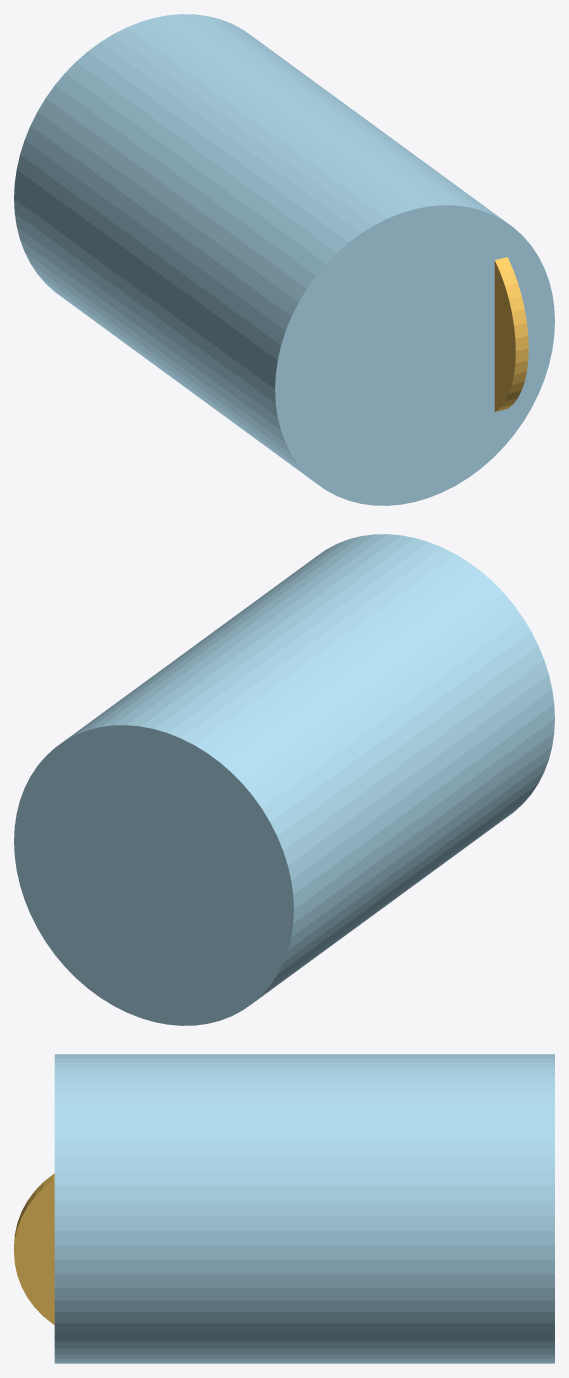
File: smoked-citrus-fizz.glb
The picture shows the model from 3 angles, top to bottom: view 1: azimuth 30°, elevation 25°; view 2: azimuth 150°, elevation 25°; view 3: azimuth 270°, elevation 25°; orthographic projection. The views are drawn at different scales.
Visible parts, largest first — view 1: Glass, CitrusWheel; view 2: Glass; view 3: Glass, CitrusWheel.
Part boxes in pixels (box(x1,y1,x2,y2)): Glass: box(14, 14, 554, 505); CitrusWheel: box(494, 257, 528, 411); Glass: box(14, 534, 554, 1025); Glass: box(54, 1054, 554, 1363); CitrusWheel: box(14, 1173, 54, 1324).
Size of the model in its own units: 1.3 by 1.3 by 2.27.
